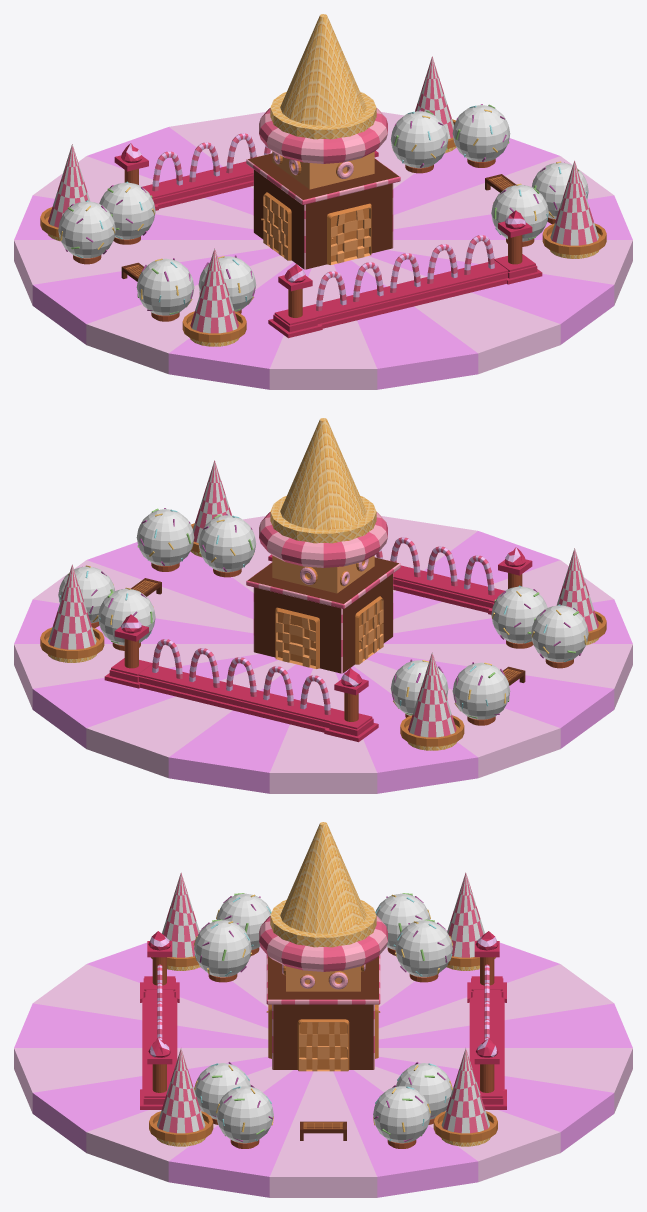
Rendered from D2_candy_ice_cream_garden.fbx.
The picture shows the model from 3 angles, top to bottom: view 1: azimuth 30°, elevation 25°; view 2: azimuth 150°, elevation 25°; view 3: azimuth 270°, elevation 25°; orthographic projection.
Visible parts, largest first — view 1: Цилиндр.001; view 2: Цилиндр.001; view 3: Цилиндр.001.
Boxes of the visible parts, x1,y1,x2,y2 form: Цилиндр.001: [14, 14, 632, 389]; Цилиндр.001: [14, 418, 632, 793]; Цилиндр.001: [14, 822, 632, 1197].
Size of the model in its own units: 3072 by 1365 by 3119.
